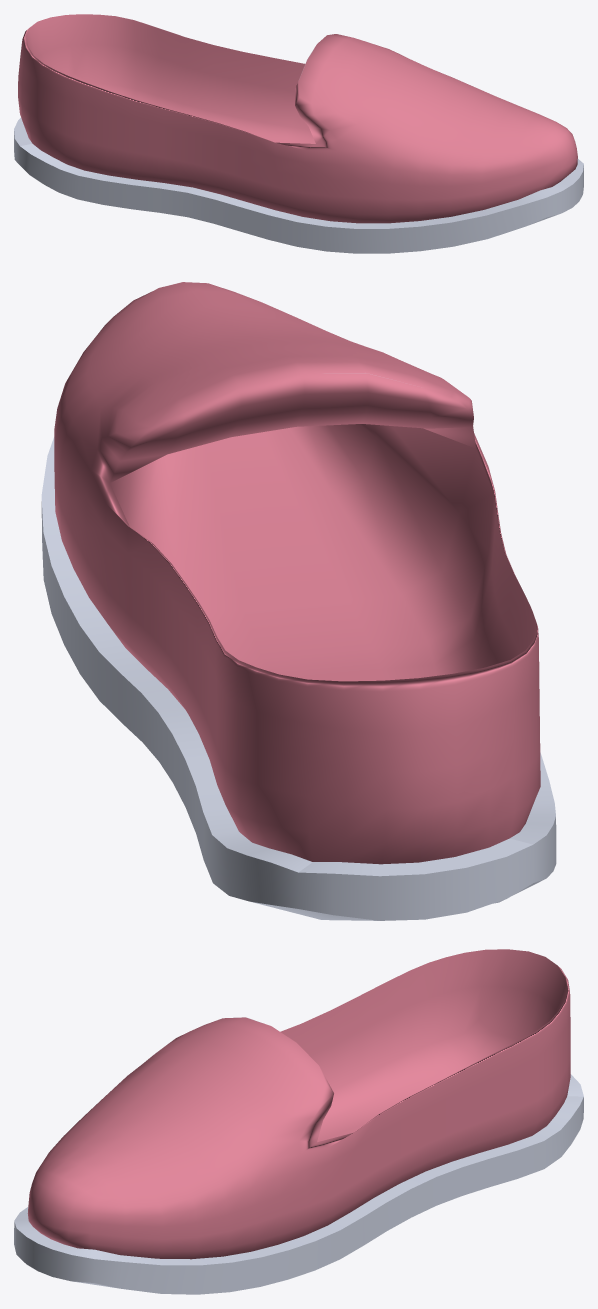
The model's file is Loftheel3.fbx.
3 views of the same model, one above another, from view 1: azimuth 30°, elevation 25°; view 2: azimuth 150°, elevation 25°; view 3: azimuth 270°, elevation 25° (orthographic). The views are drawn at different scales.
Parts seen in each view (by area): view 1: FlatBottom; view 2: FlatBottom; view 3: FlatBottom.
Part boxes in pixels (x1=…): FlatBottom: x1=14, y1=14, x2=583, y2=253; FlatBottom: x1=41, y1=282, x2=556, y2=920; FlatBottom: x1=14, y1=949, x2=583, y2=1294.
Size of the model in its own units: 3.26 by 1.32 by 3.45.
Materials: 1 (1 with a texture image).
